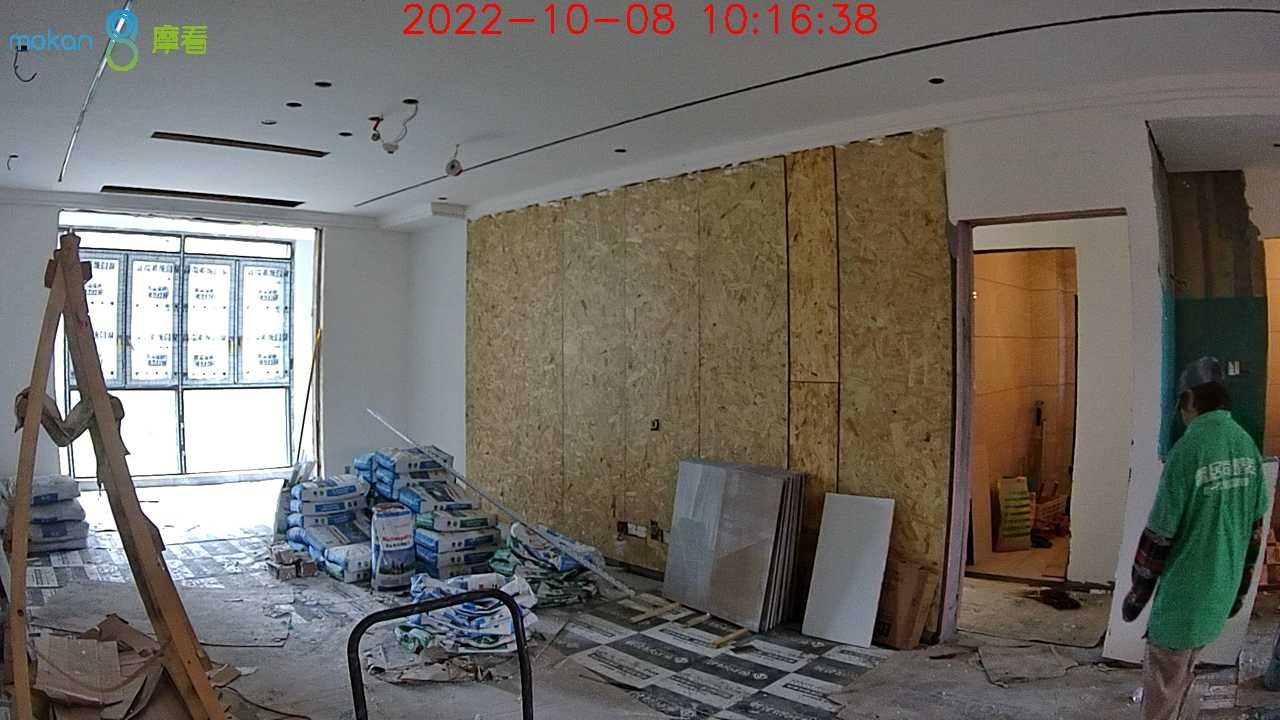people: (1122, 357, 1268, 720)
window: (59, 223, 294, 476)
